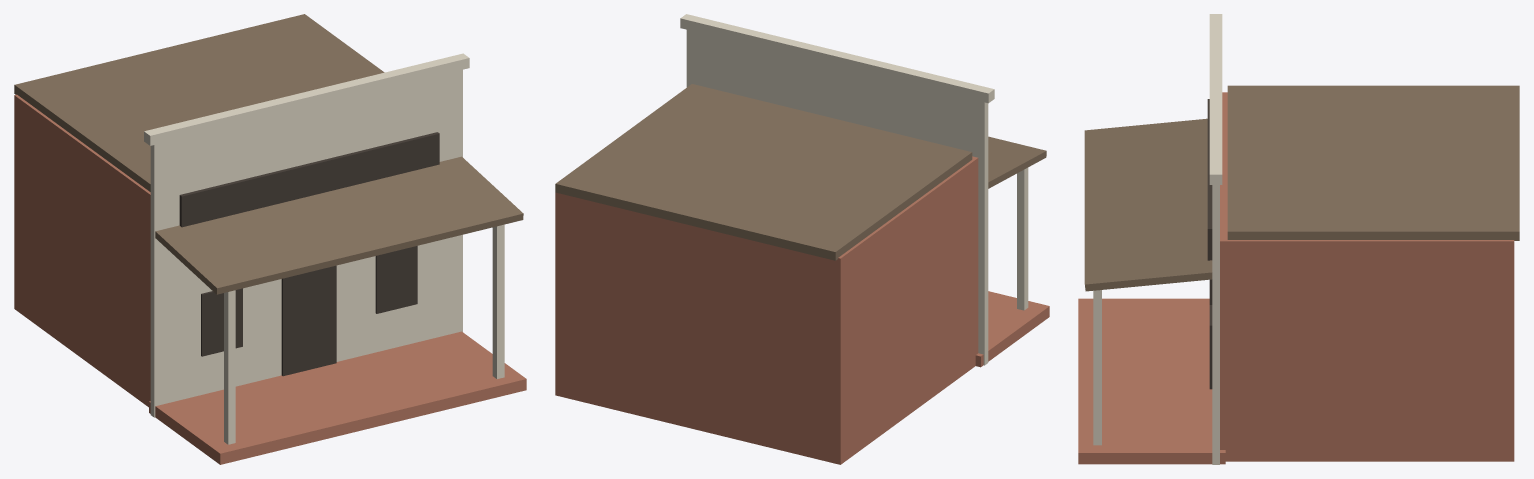
The model's file is Storefront_Red.glb.
3 renders of one model, left to right at view 1: azimuth 30°, elevation 25°; view 2: azimuth 150°, elevation 25°; view 3: azimuth 270°, elevation 25°, orthographic. The views are drawn at different scales.
Visible parts, largest first — view 1: Storefront_Red; view 2: Storefront_Red; view 3: Storefront_Red.
Part boxes in pixels (x1,y1,x2,y2): Storefront_Red: [14, 14, 526, 464]; Storefront_Red: [555, 14, 1049, 464]; Storefront_Red: [1078, 14, 1519, 464].
Size of the model in its own units: 5.94 by 5.05 by 6.89.
